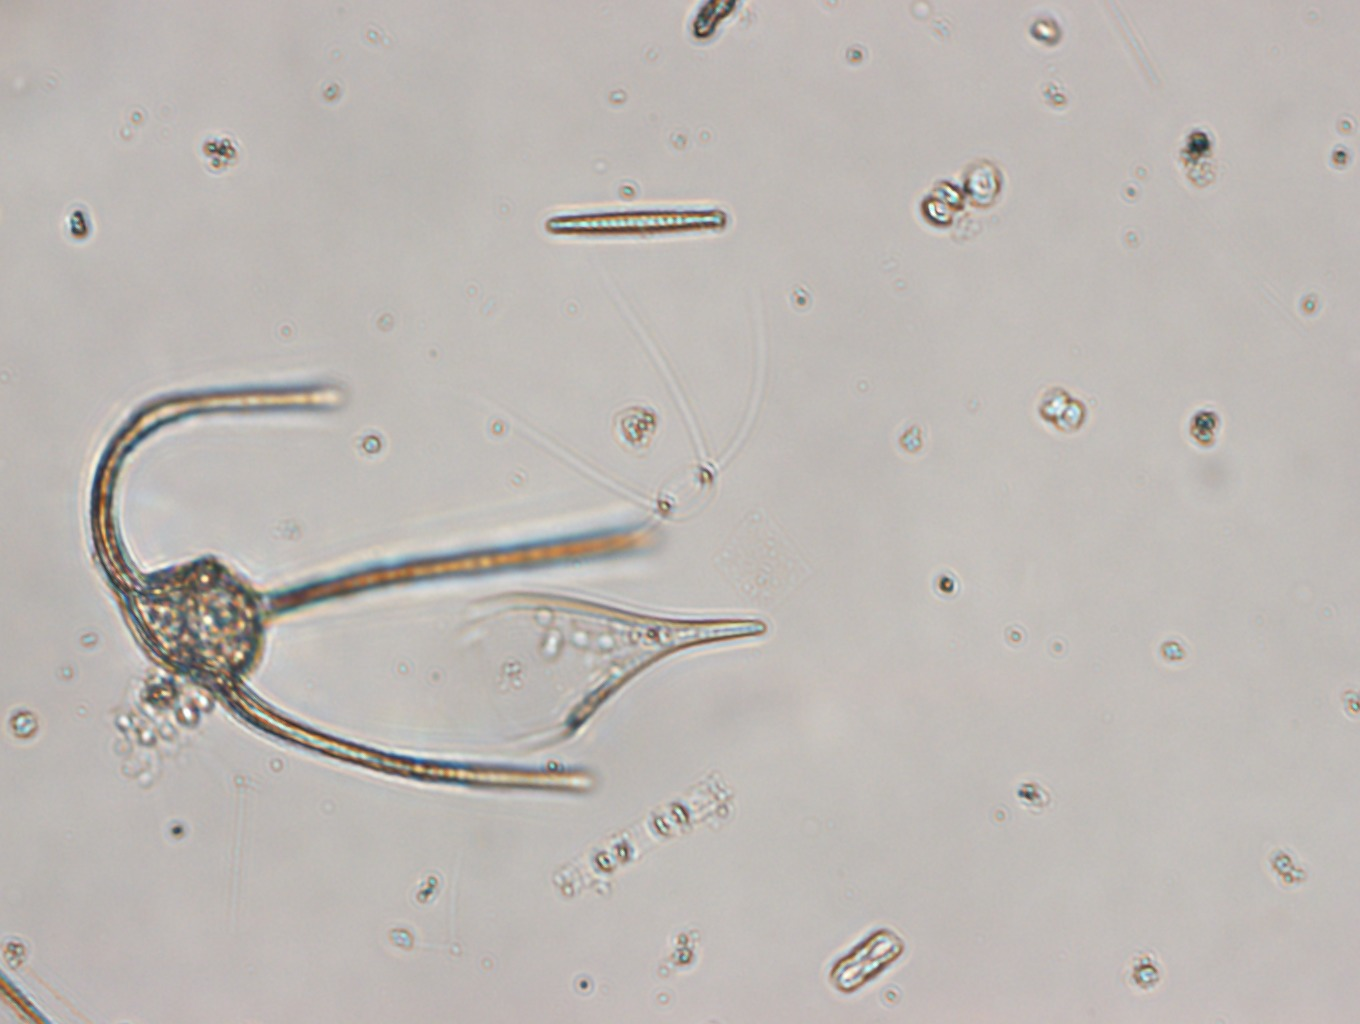ceratium trichoceros: (83, 374, 682, 810)
chaetoceros: (467, 274, 825, 534)
